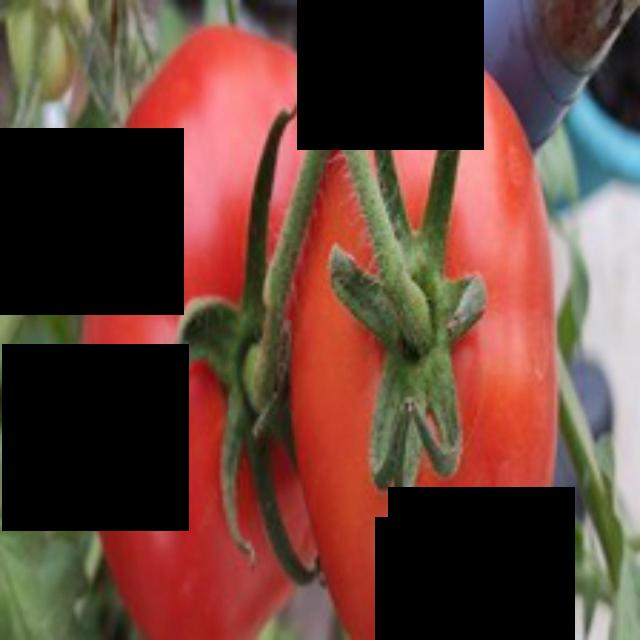tomato: (277, 0, 577, 637), (78, 11, 330, 640)
